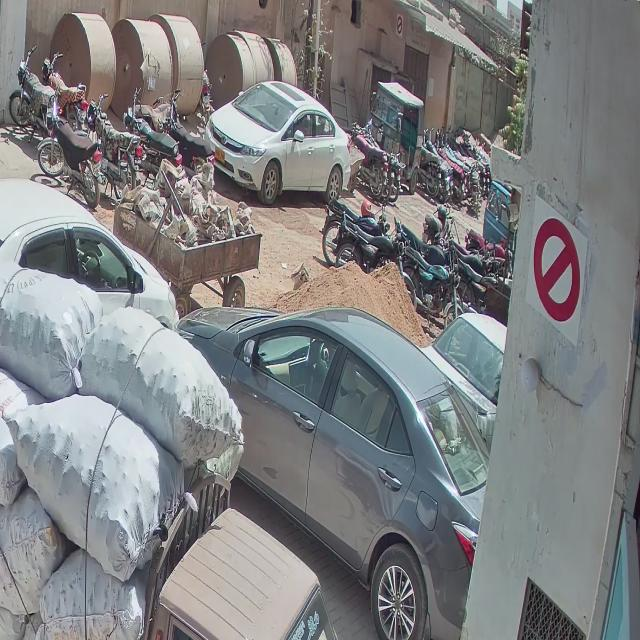bike: (37, 87, 106, 208), (86, 94, 142, 202), (124, 88, 182, 187), (9, 45, 60, 145), (320, 194, 386, 268), (331, 210, 405, 274), (162, 97, 215, 184), (404, 240, 461, 318), (42, 53, 88, 135), (351, 123, 388, 200), (399, 218, 454, 268), (465, 228, 512, 280), (458, 258, 498, 313), (135, 90, 181, 133), (456, 237, 489, 277), (419, 146, 442, 198), (422, 204, 451, 245)
car: (183, 308, 489, 636), (0, 179, 178, 390), (206, 82, 352, 208), (429, 313, 504, 422)
